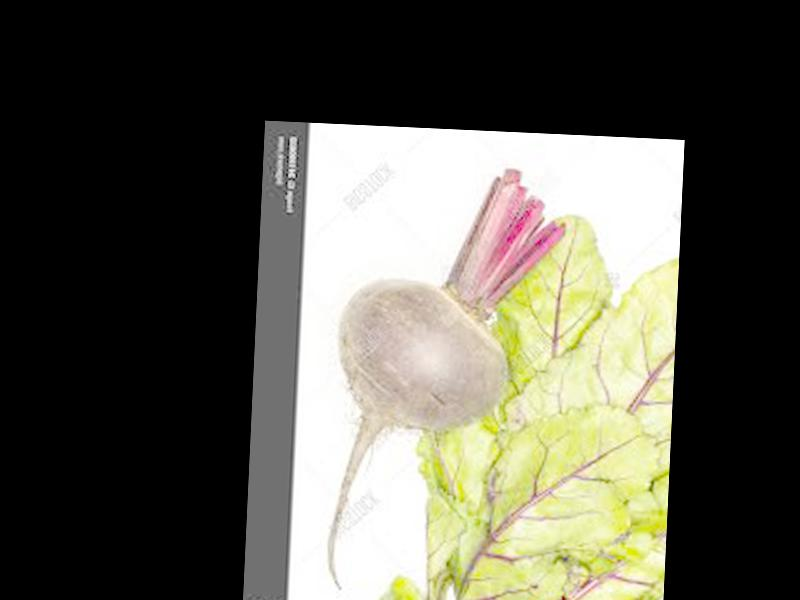Beet: (325, 160, 568, 599)
